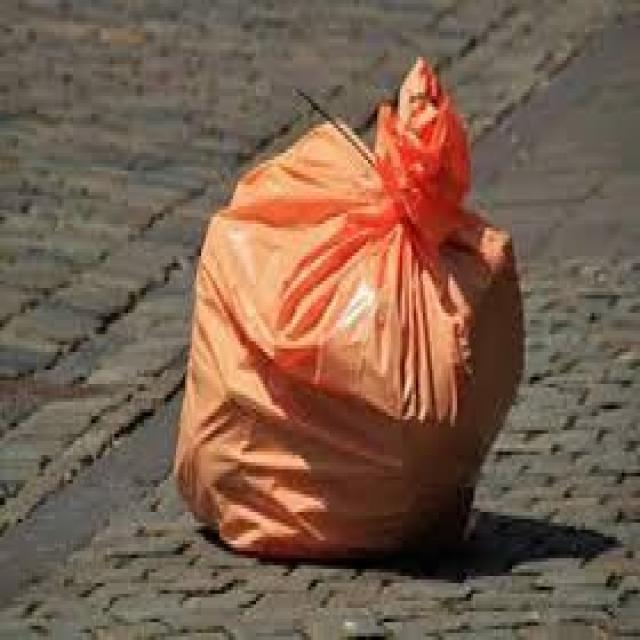plastic_bag: (179, 72, 522, 552)
